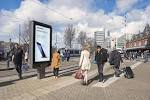board: (28, 19, 53, 81)
